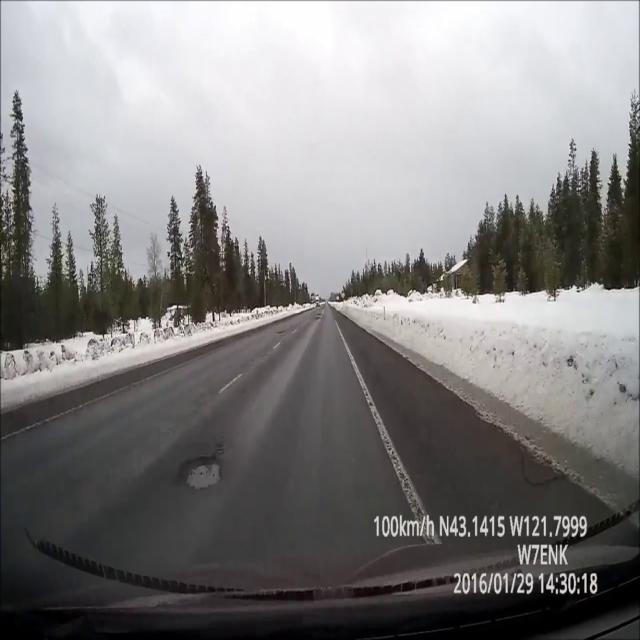Pothole: (180, 456, 223, 490), (276, 330, 284, 334), (316, 313, 323, 316), (316, 317, 320, 320)
